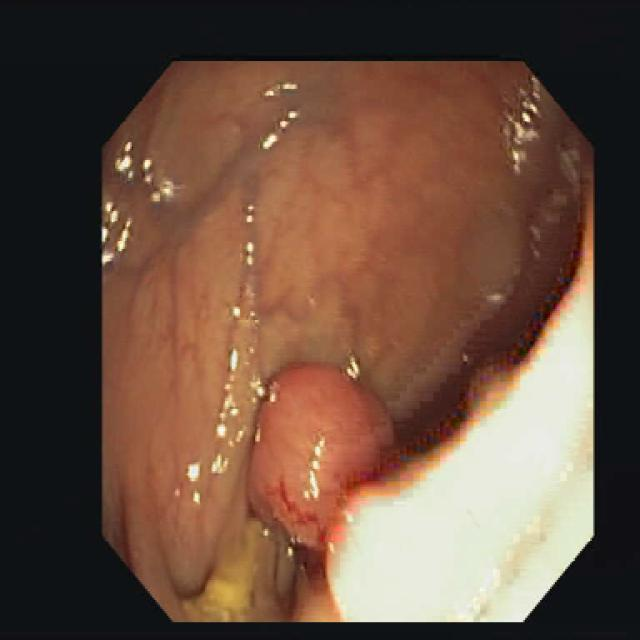tumor: (247, 364, 393, 576)
